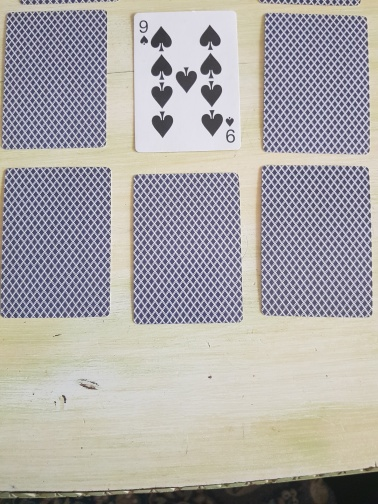nine: (132, 10, 242, 154)
